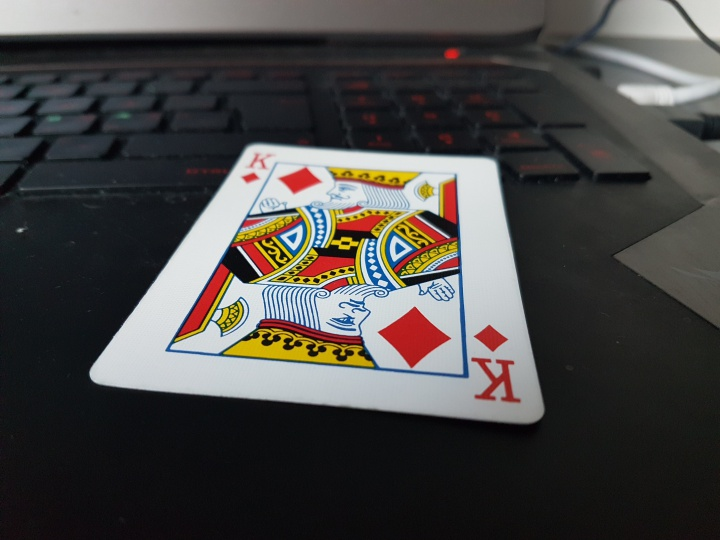king: (89, 140, 550, 427)
